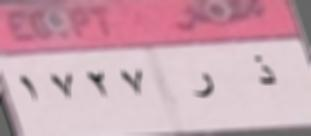1: (18, 70, 41, 108)
2: (84, 69, 113, 103)
7: (119, 66, 150, 103), (50, 70, 78, 105)
raa: (191, 65, 220, 108)
zaal: (250, 50, 282, 95)
